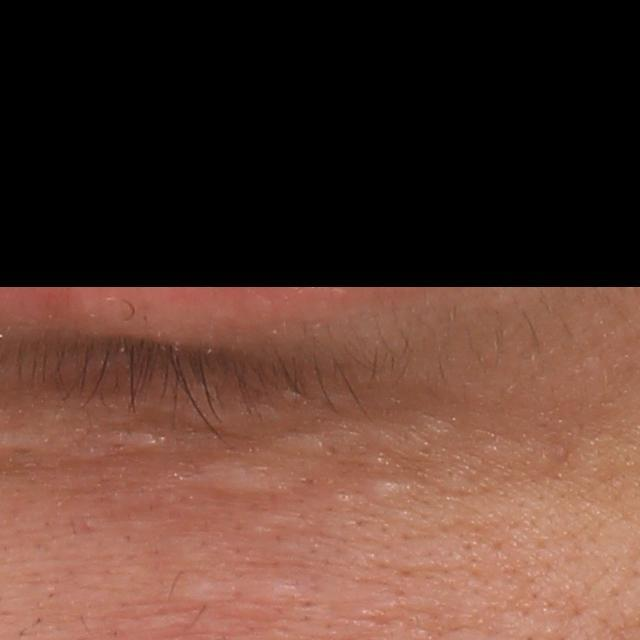hypertrophic_scar: (175, 457, 306, 498), (62, 432, 173, 463), (269, 431, 337, 463), (172, 576, 229, 606), (370, 478, 412, 503)
